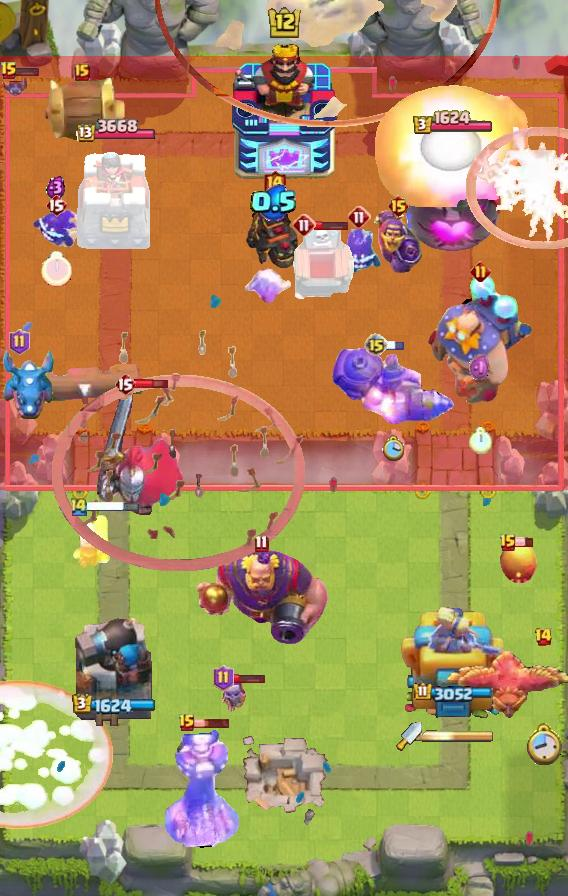archer-evolution: (244, 190, 304, 270)
bar: (399, 607, 507, 731)
barbarian-barrel: (0, 76, 30, 98)
barbarian-evolution: (465, 127, 568, 249)
electro-dragon: (163, 726, 241, 854)
electro-spirit: (250, 183, 298, 220), (468, 353, 491, 382), (46, 175, 66, 200)
elixir: (524, 721, 562, 765), (41, 251, 72, 287), (468, 426, 491, 453), (382, 434, 404, 462)
elixir-golem-mid: (287, 222, 357, 308)
emote: (87, 499, 141, 512), (135, 377, 170, 390), (193, 717, 230, 729), (4, 65, 40, 77), (314, 219, 350, 231), (231, 672, 266, 684), (386, 339, 406, 351), (514, 537, 533, 548)
firecracker-evolution: (373, 209, 422, 274)
goblin: (219, 679, 251, 719)
graveyard: (0, 347, 58, 421)
hog: (499, 541, 539, 585)
king-tower: (230, 41, 338, 181)
king-tower-bar: (422, 729, 494, 743)
lightning: (193, 548, 329, 646)
little-prince: (426, 273, 534, 407)
minion: (22, 364, 146, 404)
mirror: (245, 267, 295, 305)
mother-witch: (444, 651, 568, 725)
phoenix-big: (0, 679, 114, 829)
queen-tower: (71, 144, 157, 255)
royal-ghost: (155, 1, 501, 128)
selected: (412, 110, 494, 136), (73, 119, 154, 145), (72, 693, 156, 715), (414, 682, 494, 702)
skeleton-barrel: (52, 328, 306, 572)
spear-goblin: (333, 229, 385, 273), (31, 207, 81, 249)
text: (261, 168, 286, 199), (347, 205, 371, 229), (292, 213, 316, 237), (364, 333, 388, 357), (386, 194, 409, 218), (9, 329, 30, 355), (213, 665, 234, 691), (45, 193, 67, 217), (114, 372, 136, 396), (469, 261, 490, 282), (69, 495, 89, 517), (535, 627, 554, 647), (0, 61, 18, 81), (499, 533, 517, 553), (178, 713, 196, 733), (74, 63, 90, 81), (255, 535, 270, 553)
the-log: (37, 76, 127, 144)
tombstone: (70, 512, 112, 570)
tower-bar: (402, 136, 504, 256), (71, 611, 157, 731)
valkyrie: (374, 85, 530, 207)
wall-breaker-evolution: (94, 387, 186, 521)
wizard: (331, 347, 455, 425)
